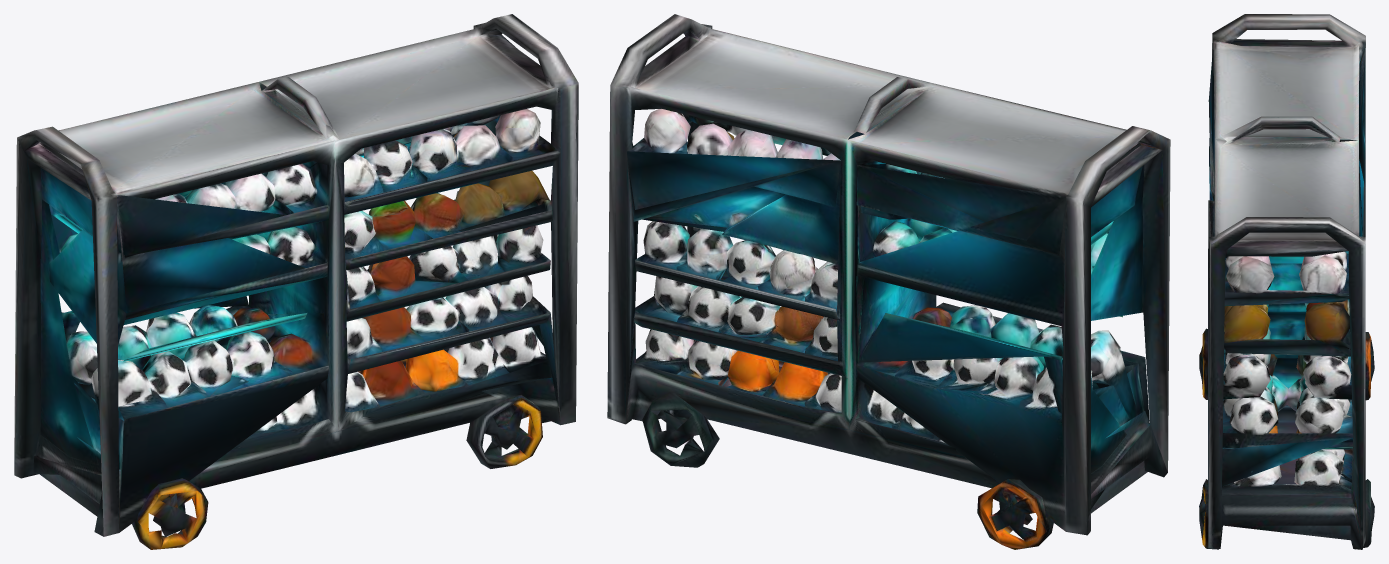
The model's file is sports_ball_rack.glb.
3 renders of one model, left to right at view 1: azimuth 30°, elevation 25°; view 2: azimuth 150°, elevation 25°; view 3: azimuth 270°, elevation 25°, orthographic. The views are drawn at different scales.
Bounding box in the file's own units: 1.9 × 1.46 × 0.6627.
1 material, 1 textured.
